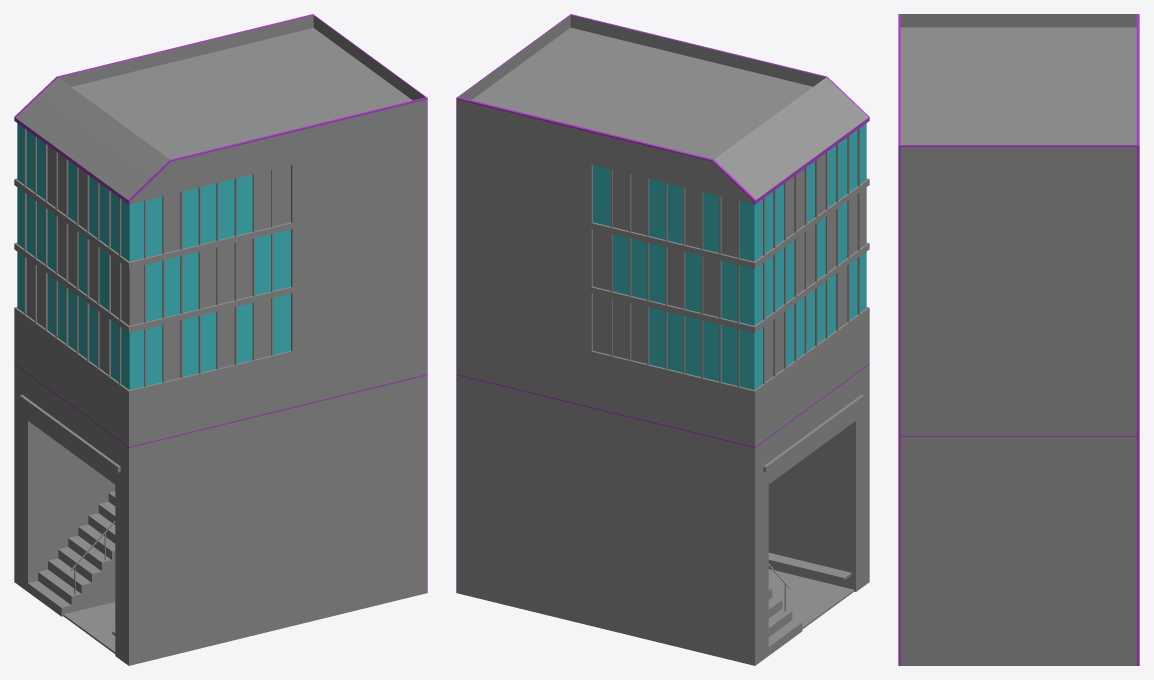
Rendered from BuildingS_02_var3.fbx.
3 renders of one model, left to right at view 1: azimuth 30°, elevation 25°; view 2: azimuth 150°, elevation 25°; view 3: azimuth 270°, elevation 25°, orthographic. The views are drawn at different scales.
Parts seen in each view (by area): view 1: BuildingS_02_var3; view 2: BuildingS_02_var3; view 3: BuildingS_02_var3.
Boxes of the visible parts, box(x1,y1,x2,y2) form: BuildingS_02_var3: box(14, 14, 427, 665); BuildingS_02_var3: box(456, 14, 869, 665); BuildingS_02_var3: box(898, 14, 1139, 665).
Size of the model in its own units: 0.3203 by 0.5025 by 0.2109.
